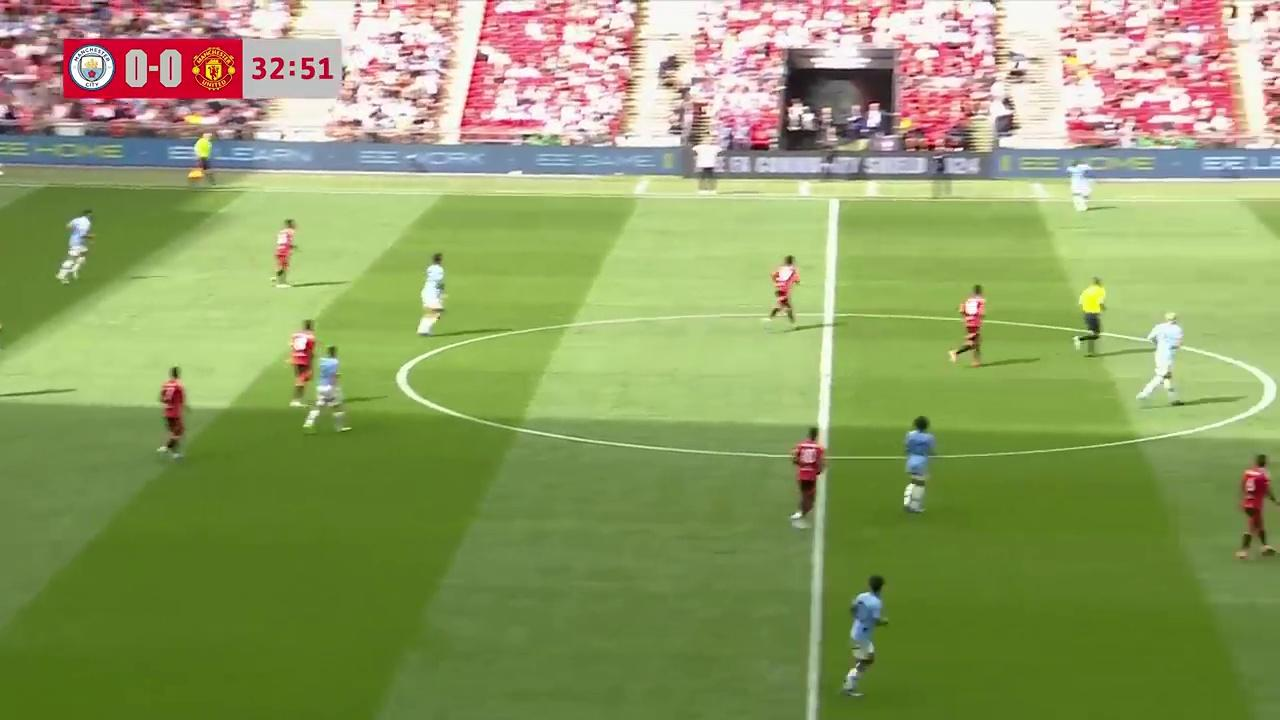ball: (416, 314, 431, 336)
player: (840, 575, 888, 697), (1234, 453, 1279, 561), (301, 345, 351, 432), (1137, 313, 1183, 406), (789, 426, 826, 530), (901, 415, 937, 513), (156, 366, 188, 460), (951, 284, 986, 367), (285, 320, 318, 407), (57, 209, 94, 282), (417, 253, 447, 336), (766, 254, 800, 326), (272, 218, 298, 288), (1068, 162, 1094, 213)
referee: (1075, 276, 1108, 357), (187, 131, 215, 187)
